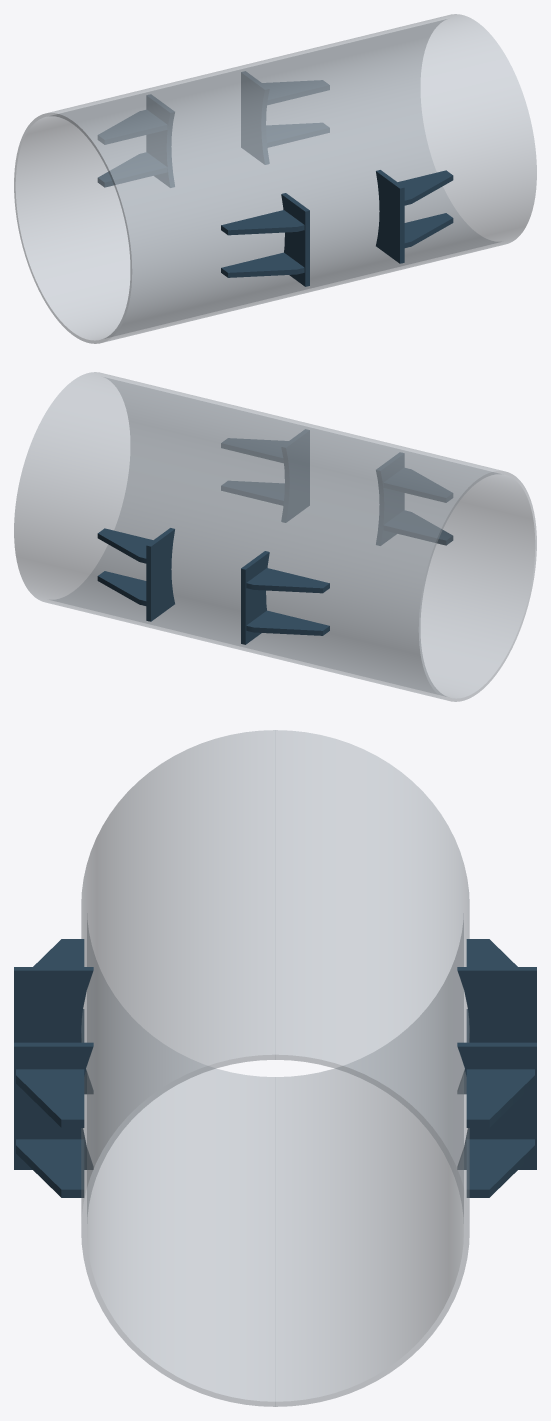
Rendered from TS-665.00.00-01-opora-dn630.glb.
3 renders of one model, top to bottom at view 1: azimuth 30°, elevation 25°; view 2: azimuth 150°, elevation 25°; view 3: azimuth 270°, elevation 25°, orthographic. The views are drawn at different scales.
Visible parts, largest first — view 1: truba, upor_1, upor_7, upor_4, upor_10, upor_5, upor_6, upor_11, upor_12, upor_8, upor_9, upor_2 (+1 smaller); view 2: truba, upor_7, upor_1, upor_10, upor_4, upor_11, upor_12, upor_6, upor_5, upor_3, upor_2, upor_9 (+1 smaller); view 3: truba, upor_4, upor_10, upor_1, upor_7, upor_3, upor_8, upor_2, upor_9, upor_5, upor_12.
Part boxes in pixels (<box>): truba: <box>14,14,536,343</box>; upor_1: <box>376,170,404,263</box>; upor_7: <box>241,71,269,164</box>; upor_4: <box>281,193,309,286</box>; upor_10: <box>146,94,174,187</box>; upor_5: <box>221,210,304,235</box>; upor_6: <box>221,252,304,277</box>; upor_11: <box>97,152,167,187</box>; upor_12: <box>98,110,167,144</box>; upor_8: <box>266,123,329,147</box>; upor_9: <box>263,80,329,104</box>; upor_2: <box>398,170,453,205</box>; truba: <box>14,372,536,701</box>; upor_7: <box>146,528,174,621</box>; upor_1: <box>281,429,309,522</box>; upor_10: <box>241,551,269,644</box>; upor_4: <box>376,452,404,545</box>; upor_11: <box>246,610,329,635</box>; upor_12: <box>246,568,329,593</box>; upor_6: <box>383,510,453,545</box>; upor_5: <box>383,468,452,502</box>; upor_3: <box>221,481,284,505</box>; upor_2: <box>221,438,287,462</box>; upor_9: <box>97,528,152,563</box>; truba: <box>81,730,469,1406</box>; upor_4: <box>14,967,93,1094</box>; upor_10: <box>457,967,536,1094</box>; upor_1: <box>14,1042,93,1169</box>; upor_7: <box>457,1042,536,1169</box>; upor_3: <box>16,1139,84,1197</box>; upor_8: <box>466,1139,534,1197</box>; upor_2: <box>16,1069,84,1127</box>; upor_9: <box>466,1069,534,1127</box>; upor_5: <box>33,939,84,966</box>; upor_12: <box>466,939,517,966</box>.
Size of the model in its own units: 1352 by 684 by 921.
